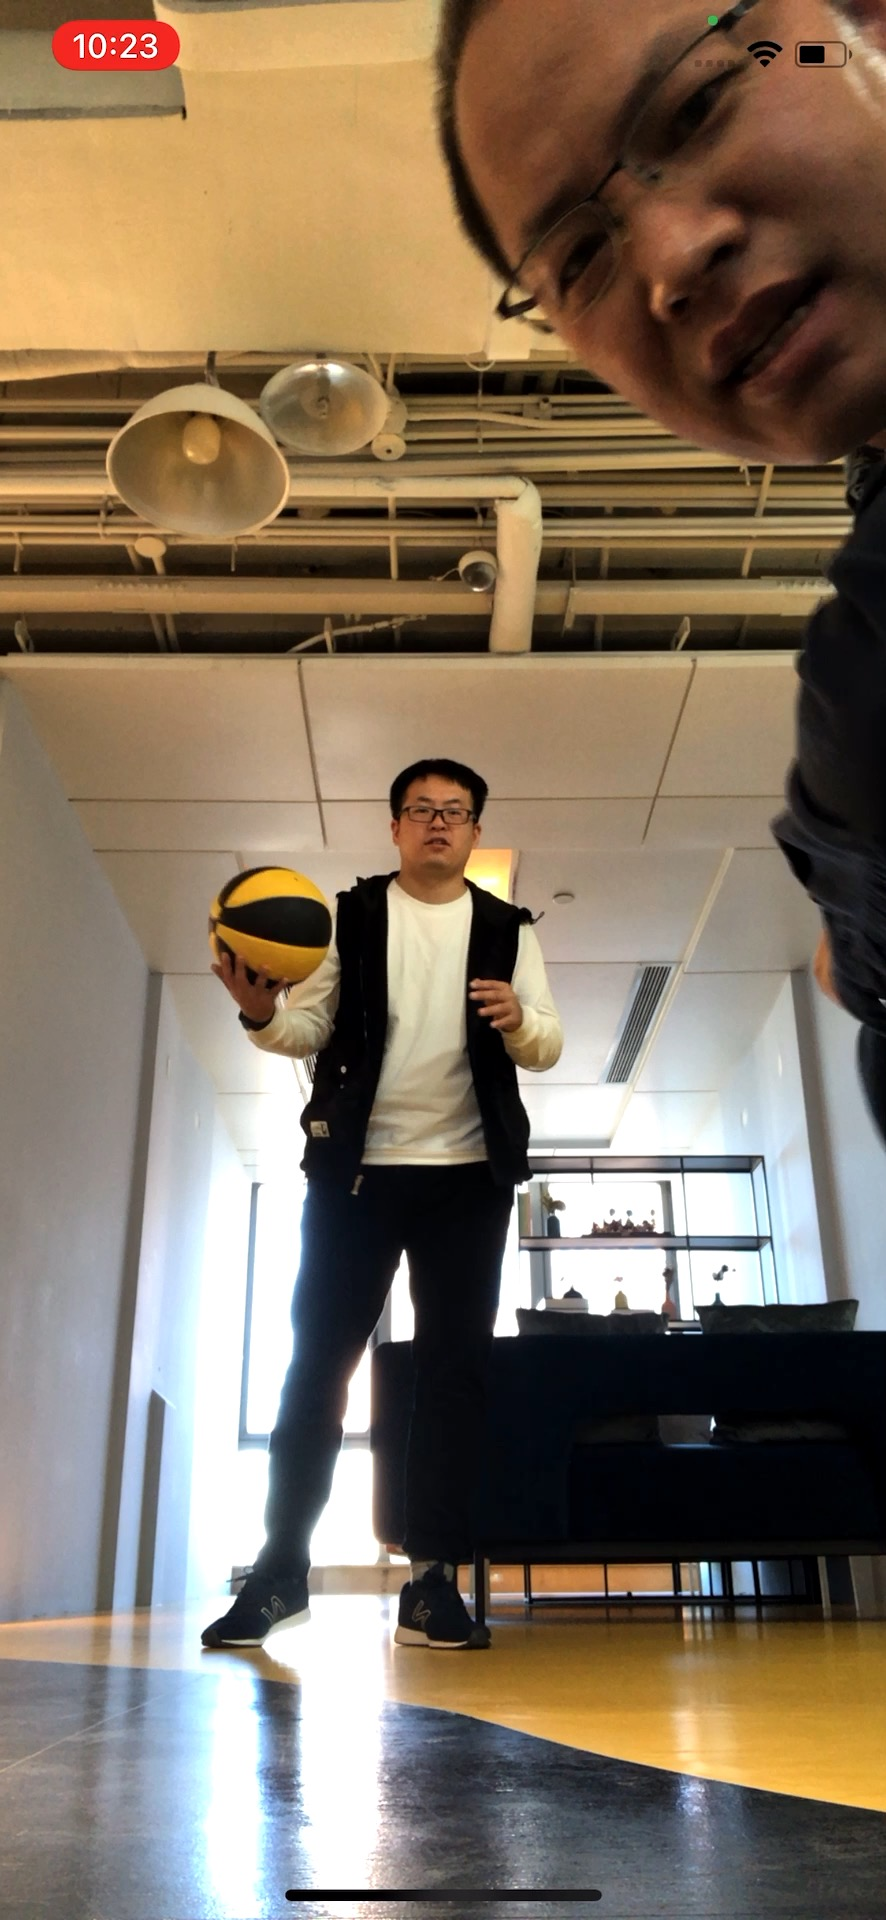ball: (208, 863, 329, 989)
